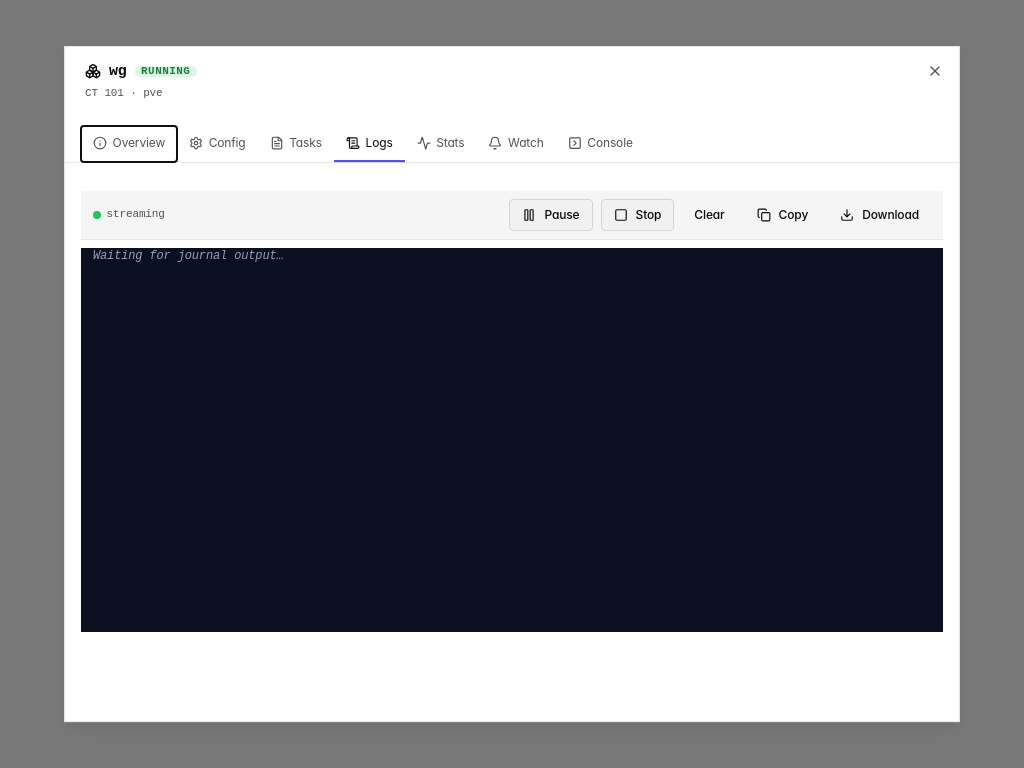
Test: LxcModal — SSH session lifecycle across tabs (V6.12) › keeps the Logs stream alive when switching tabs, and never restarts it
What coordinates should you click on to do the following:
click the tab "Overview"
I would click on:
 (129, 144)
Its box is 81,126 -> 177,162.
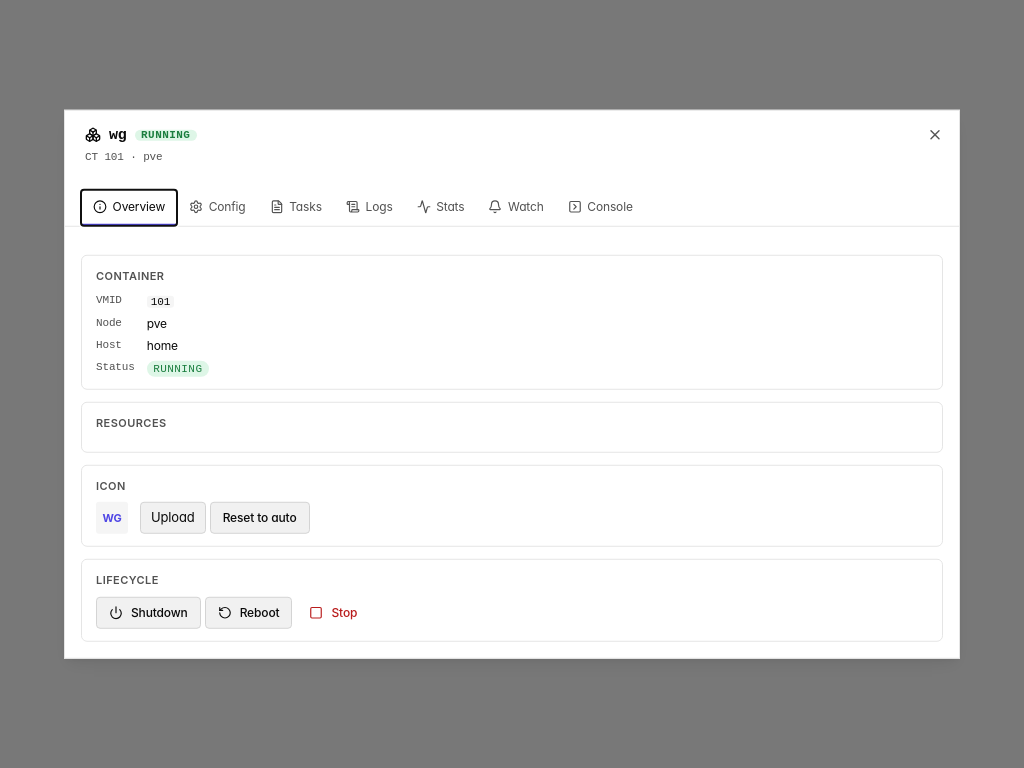
What coordinates should you click on to do the following:
click the tab "Logs"
I would click on:
 (369, 207)
Its box is 334,189 -> 405,225.
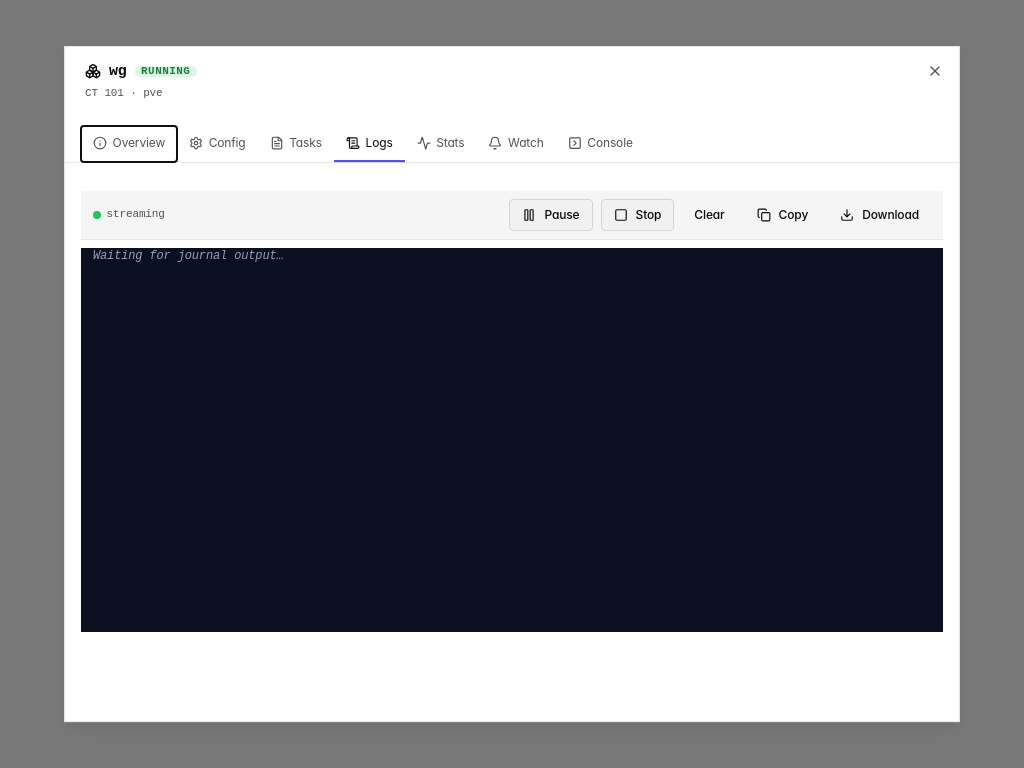
Expected: the text "Waiting for journal output…" is shown, 93,249 -> 284,263
